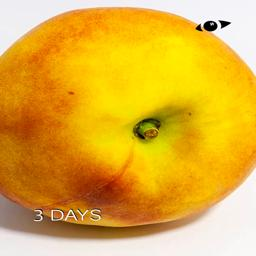Peach Fresh: (0, 7, 254, 228)
